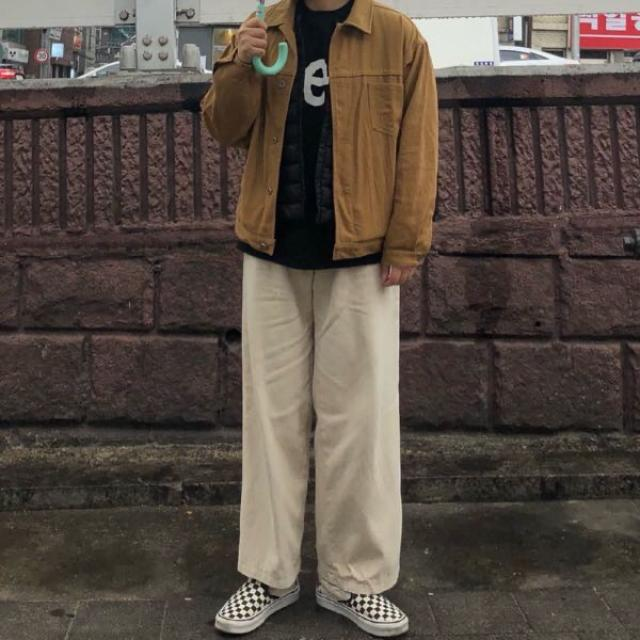cottonpants: (236, 254, 401, 598)
jacket: (202, 1, 436, 277)
